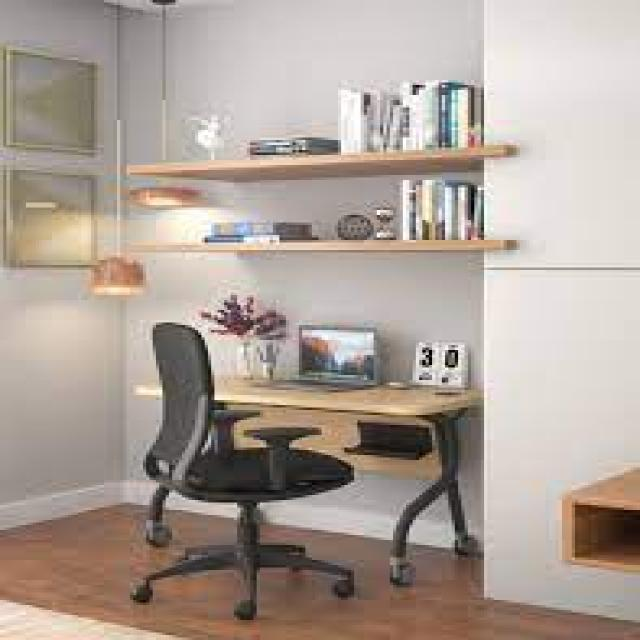chair: (89, 305, 389, 637)
